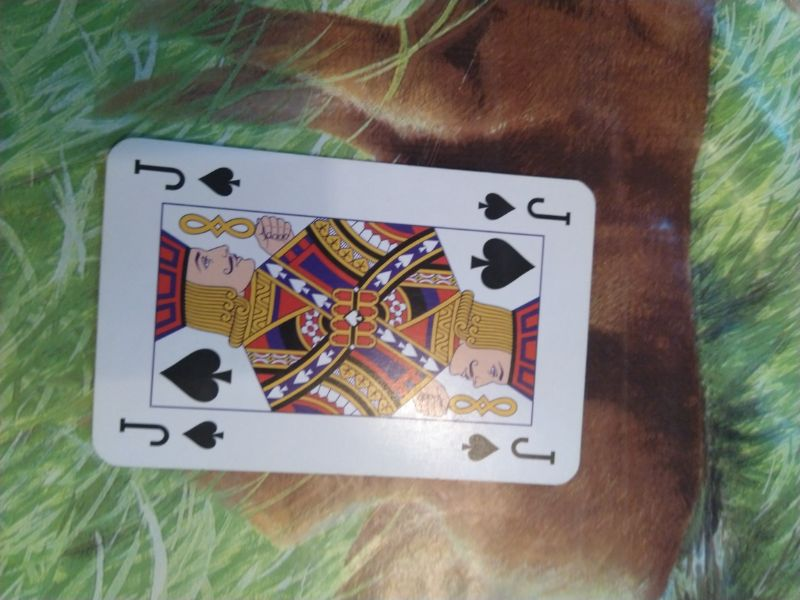Js: (128, 154, 246, 200), (114, 414, 232, 453), (456, 427, 561, 470), (475, 189, 574, 230)
